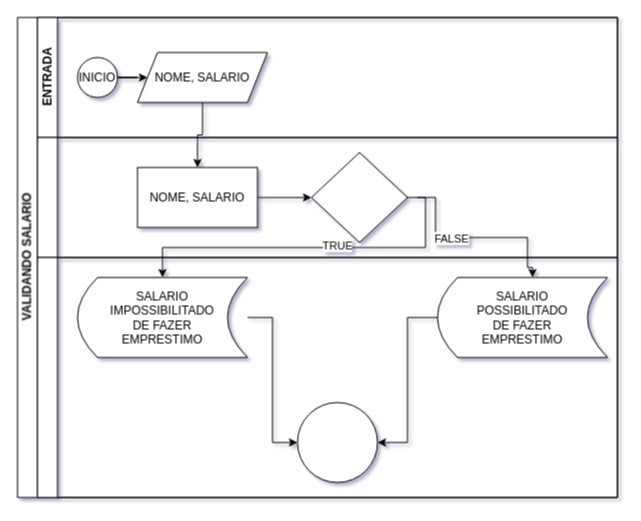
The diagram is 641 pixels wide and 521 high, and some of its shapes have lost their labels. Each missing label, with the box of its shape:
FIM: (296, 402, 378, 482)
PROCESSAMENTO: (36, 136, 618, 258)
SALARIO <= 2500: (310, 152, 408, 242)
SAÍDA: (36, 256, 618, 498)
